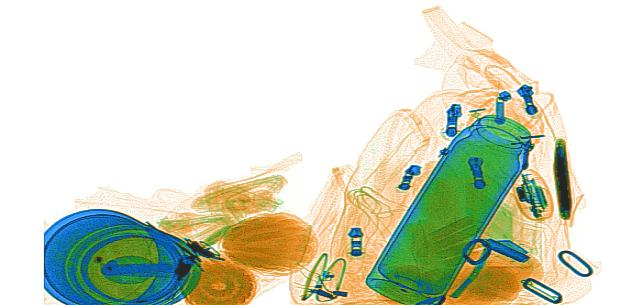knife: (478, 238, 531, 264)
